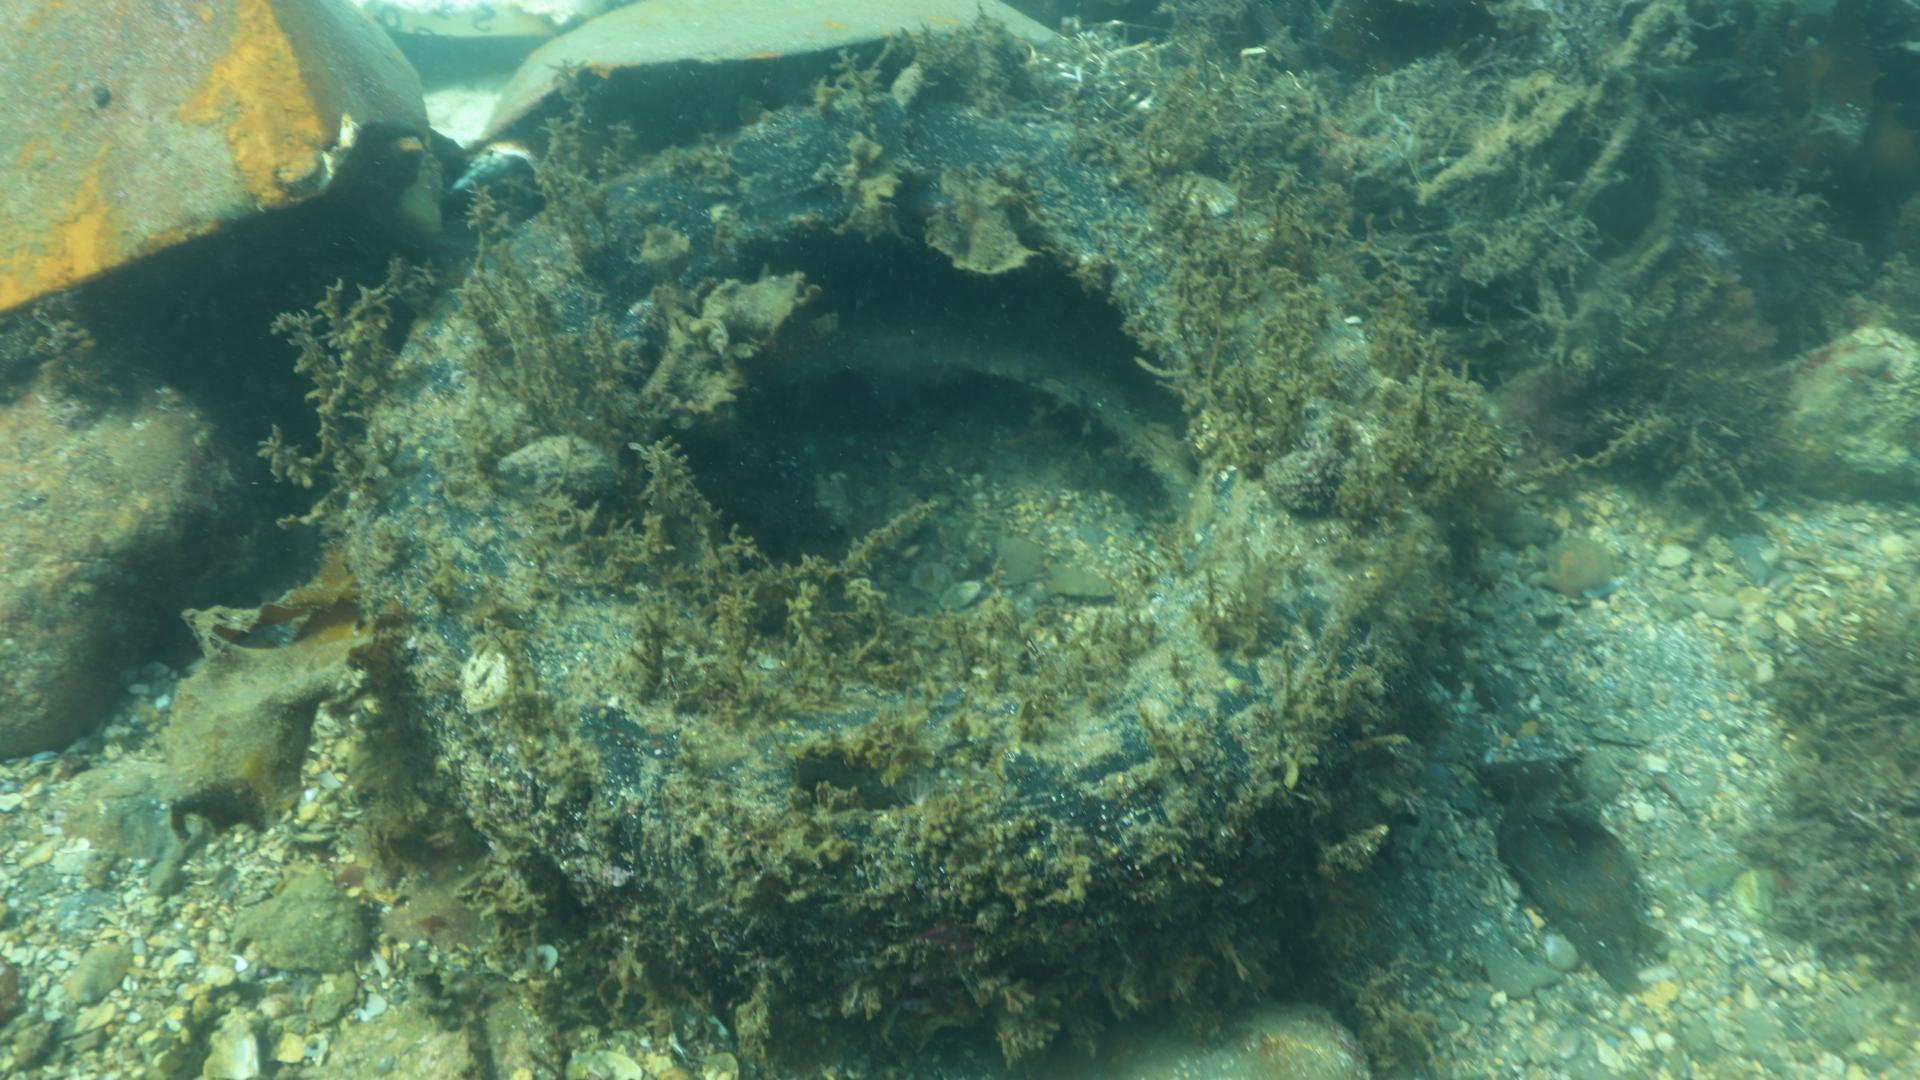tire: (357, 98, 1462, 1069)
